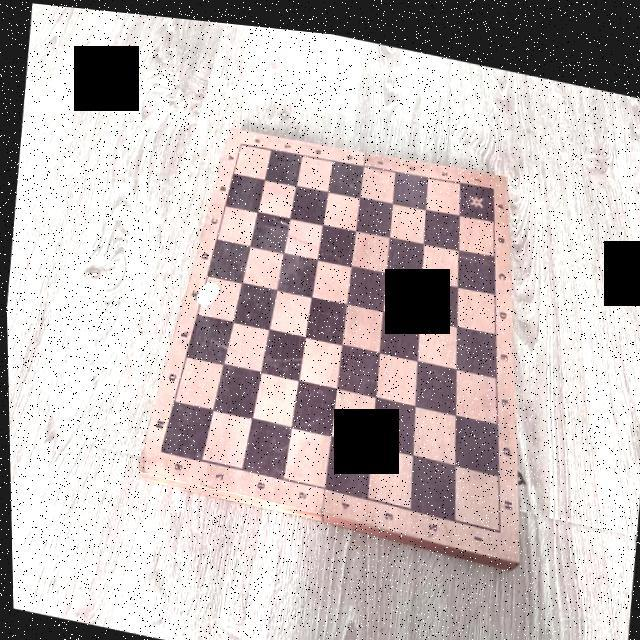chess-table-corners: (488, 172, 498, 185), (492, 514, 501, 528), (154, 442, 163, 454), (236, 134, 244, 144)
